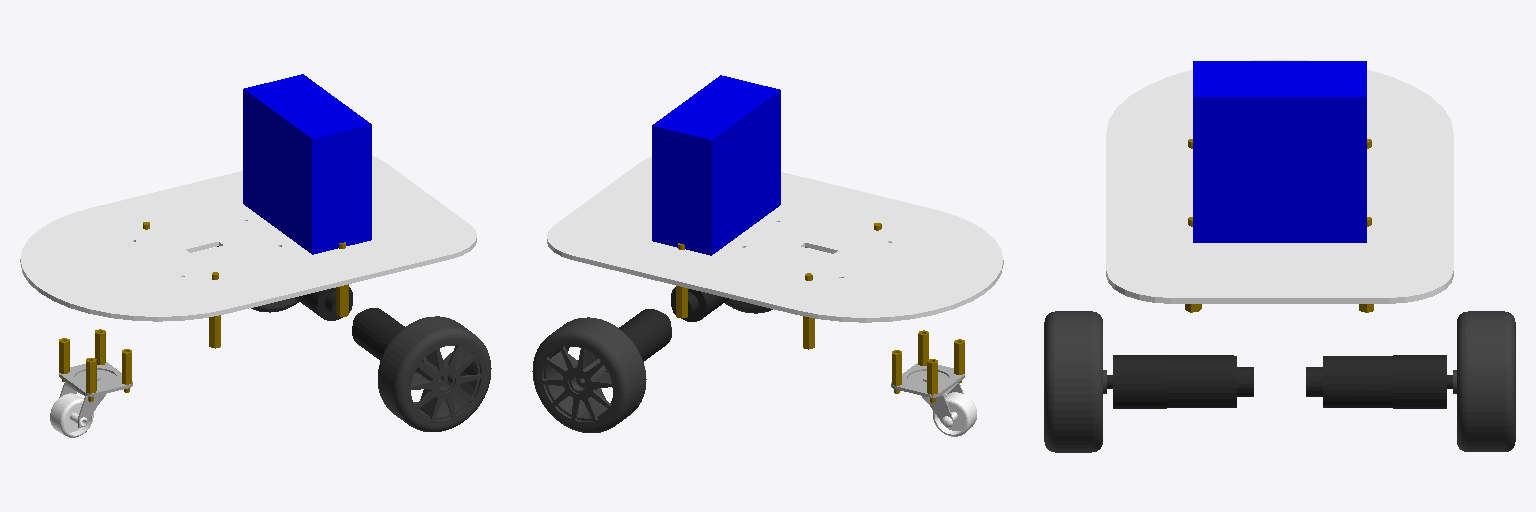
URDF robot description (qcl):
<?xml version="1.0" ?>
<robot
  name="qcl">
  <link
    name="base_link">
    <inertial>
      <origin
        xyz="0.04521 -0.00067608 0.013241"
        rpy="0 0 0" />
      <mass
        value="0.71026" />
      <inertia
        ixx="0.0008804"
        ixy="-4.168E-05"
        ixz="-4.9519E-05"
        iyy="0.0022413"
        iyz="2.1648E-06"
        izz="0.0029791" />
    </inertial>
    <visual>
      <origin
        xyz="0 0 0"
        rpy="0 0 0" />
      <geometry>
        <mesh
          filename="package://qcl_description/meshes/base_link.STL" />
      </geometry>
      <material
        name="">
        <color
          rgba="1 1 1 1" />
      </material>
    </visual>
    <collision>
      <origin
        xyz="0 0 0"
        rpy="0 0 0" />
      <geometry>
        <mesh
          filename="package://qcl_description/meshes/base_link.STL" />
      </geometry>
    </collision>
  </link>
  
    <link name="camera_link">
        <visual>
            <origin xyz=" 0 0 0 " rpy="0 0 0" />
            <geometry>
                <box size="0.04 0.08 0.08" />
            </geometry>
            <material name="blue">
                <color rgba="0 0 1 0.95"/>
            </material>
        </visual>
    </link>

    <joint name="camera_joint" type="fixed">
        <origin xyz="0.05 0 0.08" rpy="0 0 0"/>
        <parent link="base_link"/>
        <child link="camera_link"/>
    </joint>

  <link
    name="left_motor_link">
    <inertial>
      <origin
        xyz="-0.0044525 -4.3264E-07 1.3878E-17"
        rpy="0 0 0" />
      <mass
        value="0.20548" />
      <inertia
        ixx="1.507E-05"
        ixy="3.3294E-09"
        ixz="1.3383E-21"
        iyy="7.099E-05"
        iyz="1.3162E-25"
        izz="7.099E-05" />
    </inertial>
    <visual>
      <origin
        xyz="0 0 0"
        rpy="0 0 0" />
      <geometry>
        <mesh
          filename="package://qcl_description/meshes/left_motor_link.STL" />
      </geometry>
      <material
        name="">
        <color
          rgba="0.2 0.2 0.2 1" />
      </material>
    </visual>
    <collision>
      <origin
        xyz="0 0 0"
        rpy="0 0 0" />
      <geometry>
        <mesh
          filename="package://qcl_description/meshes/left_motor_link.STL" />
      </geometry>
    </collision>
  </link>
  <joint
    name="left_motor_link_joint"
    type="fixed">
    <origin
      xyz="0.08 -0.052 -0.02"
      rpy="-1.5708 -6.123E-17 -1.5708" />
    <parent
      link="base_link" />
    <child
      link="left_motor_link" />
    <axis
      xyz="0 0 0" />
  </joint>
  <link
    name="right_motor_link">
    <inertial>
      <origin
        xyz="-0.0044525 4.3259E-07 -6.8314E-09"
        rpy="0 0 0" />
      <mass
        value="0.20548" />
      <inertia
        ixx="1.507E-05"
        ixy="-3.329E-09"
        ixz="5.0684E-11"
        iyy="7.099E-05"
        iyz="-2.0772E-12"
        izz="7.099E-05" />
    </inertial>
    <visual>
      <origin
        xyz="0 0 0"
        rpy="0 0 0" />
      <geometry>
        <mesh
          filename="package://qcl_description/meshes/right_motor_link.STL" />
      </geometry>
      <material
        name="">
        <color
          rgba="0.2 0.2 0.2 1" />
      </material>
    </visual>
    <collision>
      <origin
        xyz="0 0 0"
        rpy="0 0 0" />
      <geometry>
        <mesh
          filename="package://qcl_description/meshes/right_motor_link.STL" />
      </geometry>
    </collision>
  </link>
  <joint
    name="right_motor_link_joint"
    type="fixed">
    <origin
      xyz="0.08 0.052 -0.02"
      rpy="1.5864 -3.261E-10 1.5708" />
    <parent
      link="base_link" />
    <child
      link="right_motor_link" />
    <axis
      xyz="0 0 0" />
  </joint>
  <link
    name="left_wheel_link">
    <inertial>
      <origin
        xyz="-1.4851E-09 0.015015 2.4566E-10"
        rpy="0 0 0" />
      <mass
        value="0.075908" />
      <inertia
        ixx="2.6258E-05"
        ixy="-9.3219E-13"
        ixz="-2.8752E-13"
        iyy="4.396E-05"
        iyz="1.6286E-13"
        izz="2.6267E-05" />
    </inertial>
    <visual>
      <origin
        xyz="0 0 0"
        rpy="0 0 0" />
      <geometry>
        <mesh
          filename="package://qcl_description/meshes/left_wheel_link.STL" />
      </geometry>
      <material
        name="">
        <color
          rgba="0.29412 0.29412 0.29412 1" />
      </material>
    </visual>
    <collision>
      <origin
        xyz="0 0 0"
        rpy="0 0 0" />
      <geometry>
        <mesh
          filename="package://qcl_description/meshes/left_wheel_link.STL" />
      </geometry>
    </collision>
  </link>
  <joint
    name="left_wheel_link_joint"
    type="continuous">
    <origin
      xyz="0.08 -0.0795 -0.02"
      rpy="7.1976E-17 0.55346 -3.1416" />
    <parent
      link="base_link" />
    <child
      link="left_wheel_link" />
    <axis
      xyz="0 1 0" />
  </joint>
  <link
    name="right_wheel_link">
    <inertial>
      <origin
        xyz="5.2978E-10 0.015015 -1.4089E-09"
        rpy="0 0 0" />
      <mass
        value="0.075908" />
      <inertia
        ixx="2.6264E-05"
        ixy="3.2505E-13"
        ixz="3.9746E-09"
        iyy="4.396E-05"
        iyz="-8.8873E-13"
        izz="2.626E-05" />
    </inertial>
    <visual>
      <origin
        xyz="0 0 0"
        rpy="0 0 0" />
      <geometry>
        <mesh
          filename="package://qcl_description/meshes/right_wheel_link.STL" />
      </geometry>
      <material
        name="">
        <color
          rgba="0.29412 0.29412 0.29412 1" />
      </material>
    </visual>
    <collision>
      <origin
        xyz="0 0 0"
        rpy="0 0 0" />
      <geometry>
        <mesh
          filename="package://qcl_description/meshes/right_wheel_link.STL" />
      </geometry>
    </collision>
  </link>
  <joint
    name="right_wheel_link_joint"
    type="continuous">
    <origin
      xyz="0.08 0.0795 -0.02"
      rpy="-6.228E-17 0.18385 -1.1386E-17" />
    <parent
      link="base_link" />
    <child
      link="right_wheel_link" />
    <axis
      xyz="0 -1 0" />
  </joint>
  <link
    name="upper_pillar_link">
    <inertial>
      <origin
        xyz="-0.0036279 0.021701 -0.05825"
        rpy="0 0 0" />
      <mass
        value="0.043866" />
      <inertia
        ixx="8.162E-05"
        ixy="-2.2701E-21"
        ixz="-4.5145E-06"
        iyy="0.00014979"
        iyz="6.5106E-21"
        izz="8.2197E-05" />
    </inertial>
    <visual>
      <origin
        xyz="0 0 0"
        rpy="0 0 0" />
      <geometry>
        <mesh
          filename="package://qcl_description/meshes/upper_pillar_link.STL" />
      </geometry>
      <material
        name="">
        <color
          rgba="0.64706 0.51373 0 1" />
      </material>
    </visual>
    <collision>
      <origin
        xyz="0 0 0"
        rpy="0 0 0" />
      <geometry>
        <mesh
          filename="package://qcl_description/meshes/upper_pillar_link.STL" />
      </geometry>
    </collision>
  </link>
  <joint
    name="upper_pillar_link_joint"
    type="fixed">
    <origin
      xyz="0.05 -0.04 0.003"
      rpy="1.5708 4.1893E-17 0.75349" />
    <parent
      link="base_link" />
    <child
      link="upper_pillar_link" />
    <axis
      xyz="0 0 0" />
  </joint>
  <link
    name="second_base_link">
    <inertial>
      <origin
        xyz="0.0068684 0.0015 1.2737E-17"
        rpy="0 0 0" />
      <mass
        value="0.12289" />
      <inertia
        ixx="0.00024204"
        ixy="2.3431E-22"
        ixz="-2.2464E-20"
        iyy="0.00085621"
        iyz="-9.8075E-24"
        izz="0.00061435" />
    </inertial>
    <visual>
      <origin
        xyz="0 0 0"
        rpy="0 0 0" />
      <geometry>
        <mesh
          filename="package://qcl_description/meshes/second_base_link.STL" />
      </geometry>
      <material
        name="">
        <color
          rgba="1 1 1 1" />
      </material>
    </visual>
    <collision>
      <origin
        xyz="0 0 0"
        rpy="0 0 0" />
      <geometry>
        <mesh
          filename="package://qcl_description/meshes/second_base_link.STL" />
      </geometry>
    </collision>
  </link>
  <joint
    name="second_base_link_joint"
    type="fixed">
    <origin
      xyz="-0.0090977 0.04 -0.063382"
      rpy="0 -0.75349 0" />
    <parent
      link="upper_pillar_link" />
    <child
      link="second_base_link" />
    <axis
      xyz="0 0 0" />
  </joint>
  <link
    name="down_pillar_link">
    <inertial>
      <origin
        xyz="-0.019597 -0.011183 -0.00043751"
        rpy="0 0 0" />
      <mass
        value="0.018034" />
      <inertia
        ixx="4.0649E-06"
        ixy="1.5272E-22"
        ixz="8.2969E-07"
        iyy="7.0324E-06"
        iyz="-5.4456E-22"
        izz="4.5743E-06" />
    </inertial>
    <visual>
      <origin
        xyz="0 0 0"
        rpy="0 0 0" />
      <geometry>
        <mesh
          filename="package://qcl_description/meshes/down_pillar_link.STL" />
      </geometry>
      <material
        name="">
        <color
          rgba="0.64706 0.51373 0 1" />
      </material>
    </visual>
    <collision>
      <origin
        xyz="0 0 0"
        rpy="0 0 0" />
      <geometry>
        <mesh
          filename="package://qcl_description/meshes/down_pillar_link.STL" />
      </geometry>
    </collision>
  </link>
  <joint
    name="down_pillar_link_joint"
    type="fixed">
    <origin
      xyz="-0.08 0.0155 0"
      rpy="1.5708 4.9241E-17 0.93431" />
    <parent
      link="base_link" />
    <child
      link="down_pillar_link" />
    <axis
      xyz="0 0 0" />
  </joint>
  <link
    name="front_wheel_base_link">
    <inertial>
      <origin
        xyz="-4.7525E-18 0.00087738 -1.3878E-17"
        rpy="0 0 0" />
      <mass
        value="0.0018063" />
      <inertia
        ixx="1.6484E-07"
        ixy="-1.1488E-23"
        ixz="-9.6935E-24"
        iyy="3.9976E-07"
        iyz="2.0239E-24"
        izz="2.3607E-07" />
    </inertial>
    <visual>
      <origin
        xyz="0 0 0"
        rpy="0 0 0" />
      <geometry>
        <mesh
          filename="package://qcl_description/meshes/front_wheel_base_link.STL" />
      </geometry>
      <material
        name="">
        <color
          rgba="0.75294 0.75294 0.75294 1" />
      </material>
    </visual>
    <collision>
      <origin
        xyz="0 0 0"
        rpy="0 0 0" />
      <geometry>
        <mesh
          filename="package://qcl_description/meshes/front_wheel_base_link.STL" />
      </geometry>
    </collision>
  </link>
  <joint
    name="front_wheel_base_link_joint"
    type="fixed">
    <origin
      xyz="-0.019597 -0.022 -0.00043751"
      rpy="0 0.63649 0" />
    <parent
      link="down_pillar_link" />
    <child
      link="front_wheel_base_link" />
    <axis
      xyz="0 0 0" />
  </joint>
  <link
    name="front_wheel_link">
    <inertial>
      <origin
        xyz="0.004231 -0.0034555 2.7811E-08"
        rpy="0 0 0" />
      <mass
        value="0.0014826" />
      <inertia
        ixx="1.093E-07"
        ixy="2.5801E-08"
        ixz="-1.269E-13"
        iyy="1.713E-07"
        iyz="-1.3046E-13"
        izz="1.1404E-07" />
    </inertial>
    <visual>
      <origin
        xyz="0 0 0"
        rpy="0 0 0" />
      <geometry>
        <mesh
          filename="package://qcl_description/meshes/front_wheel_link.STL" />
      </geometry>
      <material
        name="">
        <color
          rgba="0.75294 0.75294 0.75294 1" />
      </material>
    </visual>
    <collision>
      <origin
        xyz="0 0 0"
        rpy="0 0 0" />
      <geometry>
        <mesh
          filename="package://qcl_description/meshes/front_wheel_link.STL" />
      </geometry>
    </collision>
  </link>
  <joint
    name="front_wheel_link_joint"
    type="continuous">
    <origin
      xyz="0 0 0"
      rpy="3.1416 1.4691 3.1416" />
    <parent
      link="front_wheel_base_link" />
    <child
      link="front_wheel_link" />
    <axis
      xyz="0 1 0" />
  </joint>
  <link
    name="front_wheel">
    <inertial>
      <origin
        xyz="-0.00029981 0 0"
        rpy="0 0 0" />
      <mass
        value="0.0030592" />
      <inertia
        ixx="2.5606E-07"
        ixy="2.2334E-22"
        ixz="1.8301E-23"
        iyy="1.7174E-07"
        iyz="-4.1747E-24"
        izz="1.7174E-07" />
    </inertial>
    <visual>
      <origin
        xyz="0 0 0"
        rpy="0 0 0" />
      <geometry>
        <mesh
          filename="package://qcl_description/meshes/front_wheel.STL" />
      </geometry>
      <material
        name="">
        <color
          rgba="1 1 1 1" />
      </material>
    </visual>
    <collision>
      <origin
        xyz="0 0 0"
        rpy="0 0 0" />
      <geometry>
        <mesh
          filename="package://qcl_description/meshes/front_wheel.STL" />
      </geometry>
    </collision>
  </link>
  <joint
    name="front_wheel_joint"
    type="continuous">
    <origin
      xyz="0.017 -0.01801 0"
      rpy="-1.6378 1.5708 0.0099499" />
    <parent
      link="front_wheel_link" />
    <child
      link="front_wheel" />
    <axis
      xyz="1 0 0" />
  </joint>
</robot>

--- What the picture shows (computed from the rendered views, not written in the file) ---
The picture shows the robot from 3 angles, left to right: view 1: azimuth 30°, elevation 25°; view 2: azimuth 150°, elevation 25°; view 3: azimuth 270°, elevation 25°; orthographic projection.
Model qcl with 12 links and 11 joints (4 continuous, 7 fixed), rooted at base_link, posed all joints at 0.
Links seen in each view (by area): view 1: second_base_link, camera_link, left_wheel_link, left_motor_link, down_pillar_link, front_wheel, front_wheel_base_link, upper_pillar_link, right_motor_link; view 2: second_base_link, camera_link, right_wheel_link, right_motor_link, down_pillar_link, front_wheel, front_wheel_base_link, left_motor_link, upper_pillar_link; view 3: second_base_link, camera_link, left_wheel_link, right_wheel_link, left_motor_link, right_motor_link.
Link boxes in pixels (box(x1,y1,x2,y2)): second_base_link: box(20, 156, 476, 321); camera_link: box(243, 74, 371, 254); left_wheel_link: box(378, 316, 491, 431); left_motor_link: box(352, 308, 415, 372); down_pillar_link: box(59, 329, 131, 401); front_wheel: box(50, 393, 93, 437); front_wheel_base_link: box(59, 362, 132, 396); upper_pillar_link: box(143, 222, 348, 348); right_motor_link: box(294, 287, 352, 320); second_base_link: box(547, 157, 1003, 322); camera_link: box(652, 75, 780, 255); right_wheel_link: box(532, 317, 646, 432); right_motor_link: box(596, 309, 671, 361); down_pillar_link: box(892, 330, 964, 402); front_wheel: box(933, 392, 976, 436); front_wheel_base_link: box(891, 363, 964, 397); left_motor_link: box(671, 287, 729, 321); upper_pillar_link: box(676, 223, 881, 349); second_base_link: box(1106, 59, 1453, 303); camera_link: box(1193, 61, 1366, 242); left_wheel_link: box(1044, 311, 1106, 452); right_wheel_link: box(1453, 311, 1515, 451); left_motor_link: box(1107, 355, 1253, 408); right_motor_link: box(1306, 355, 1452, 408).
Bounding box of the posed robot: 0.26 × 0.217 × 0.1725 m (x, y, z).
Meshes: 11 distinct files referenced, 10 mesh visuals loaded (10 binary STL); not drawn: 1 (reference not matched to a file when rendering).